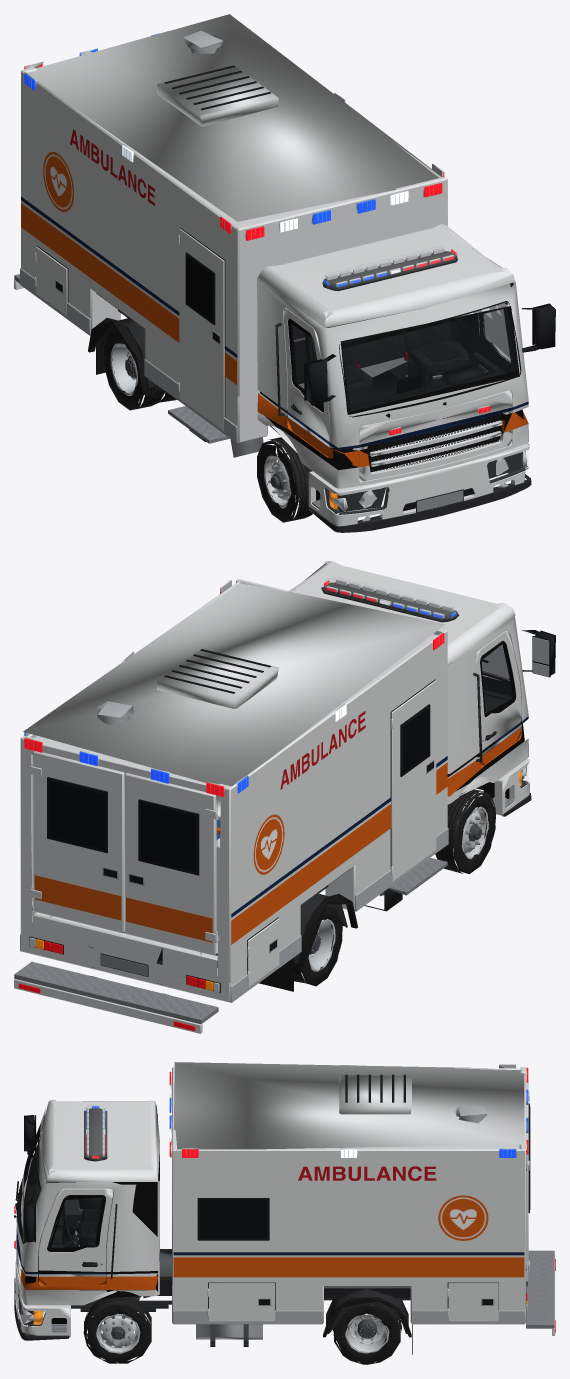
File: ambulance.glb
The picture shows the model from 3 angles, top to bottom: view 1: azimuth 30°, elevation 25°; view 2: azimuth 150°, elevation 25°; view 3: azimuth 270°, elevation 25°; orthographic projection. The views are drawn at different scales.
Parts seen in each view (by area): view 1: Body, Wheel_1_Right, Wheel_2_Right; view 2: Body, Door_Left, Door_Right, Wheel_1_Right, Wheel_2_Right; view 3: Body, Wheel_1_Left, Wheel_2_Left, Door_Left.
Boxes of the visible parts, x1,y1,x2,y2 form: Body: (14, 14, 555, 532); Wheel_1_Right: (257, 437, 316, 522); Wheel_2_Right: (103, 330, 176, 410); Body: (14, 561, 555, 1033); Door_Left: (30, 751, 124, 933); Door_Right: (125, 773, 218, 955); Wheel_1_Right: (435, 789, 495, 873); Wheel_2_Right: (294, 904, 342, 986); Body: (14, 1062, 555, 1354); Wheel_1_Left: (83, 1297, 151, 1363); Wheel_2_Left: (333, 1302, 401, 1364); Door_Left: (526, 1116, 530, 1281).
Bounding box in the file's own units: 2.78 × 3.14 × 6.49.
75 materials, 14 textured.
